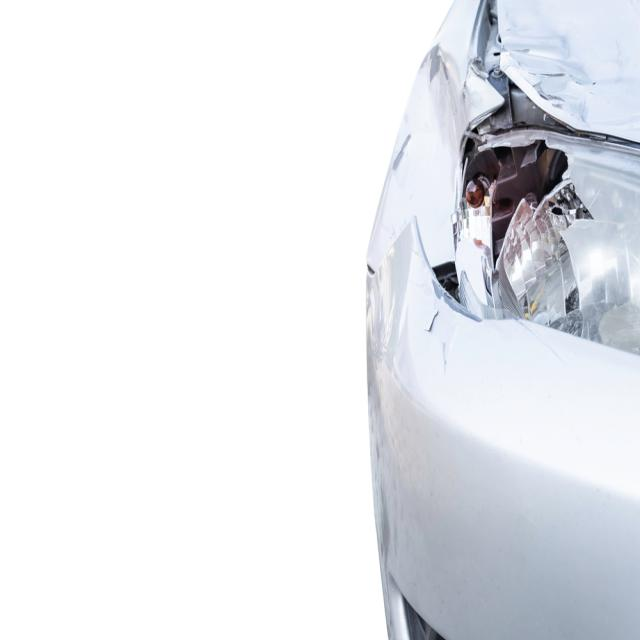Cabossage: (356, 41, 471, 284), (517, 38, 599, 120)
Dechirure: (468, 0, 516, 100), (422, 302, 452, 383)
Phare abime: (452, 126, 602, 344)
